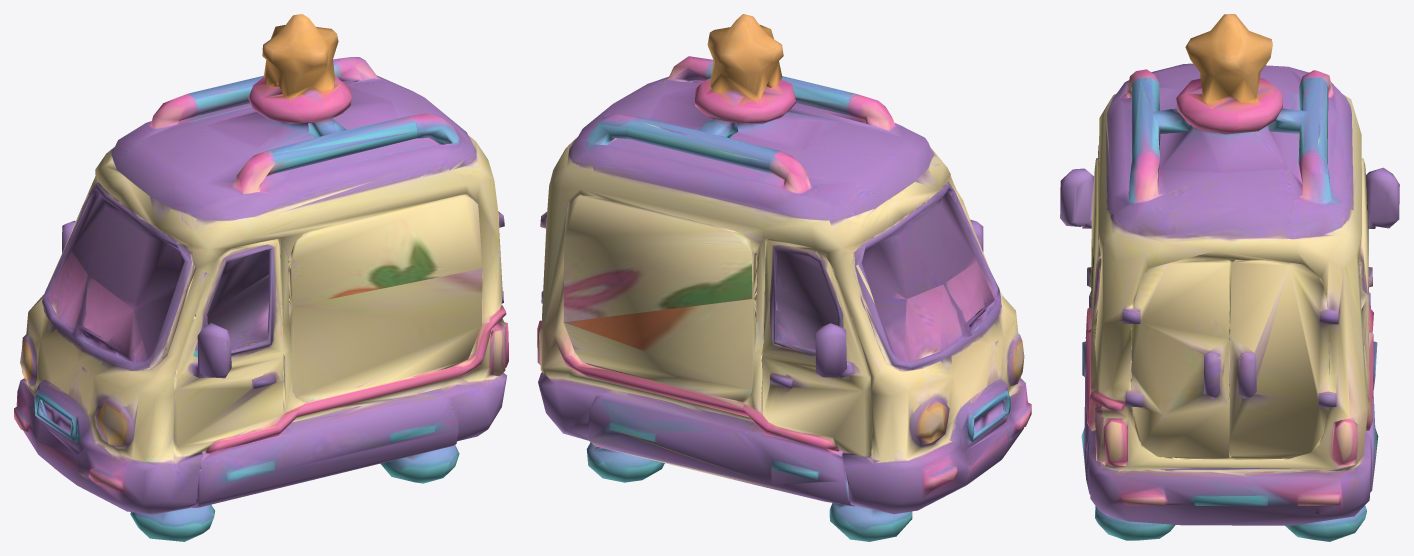
Rendered from van.glb.
The picture shows the model from 3 angles, left to right: view 1: azimuth 30°, elevation 25°; view 2: azimuth 150°, elevation 25°; view 3: azimuth 270°, elevation 25°; orthographic projection. The views are drawn at different scales.
Parts seen in each view (by area): view 1: V04_delivery-van; view 2: V04_delivery-van; view 3: V04_delivery-van.
Part boxes in pixels (bbox=[...]): V04_delivery-van: bbox=[14, 14, 508, 541]; V04_delivery-van: bbox=[537, 14, 1031, 541]; V04_delivery-van: bbox=[1060, 14, 1399, 541].
Bounding box in the file's own units: 0.9596 × 1 × 0.6392.
Materials: 1 (1 with a texture image).
